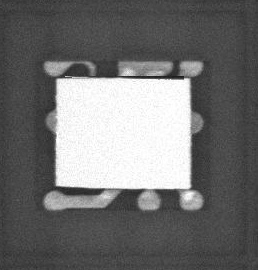DIE_BROKEN: (132, 73, 186, 81)
